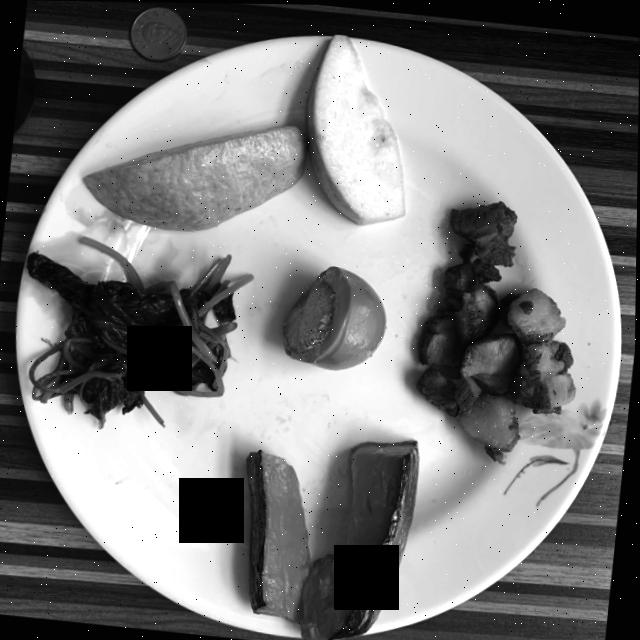coin: (130, 5, 187, 59)
grilled pork: (417, 199, 576, 460)
guava -sliced-: (83, 32, 405, 230)
pumpkin: (248, 439, 420, 640)
soy egg: (283, 265, 386, 368)
sweet potato leaves: (27, 236, 253, 425)
